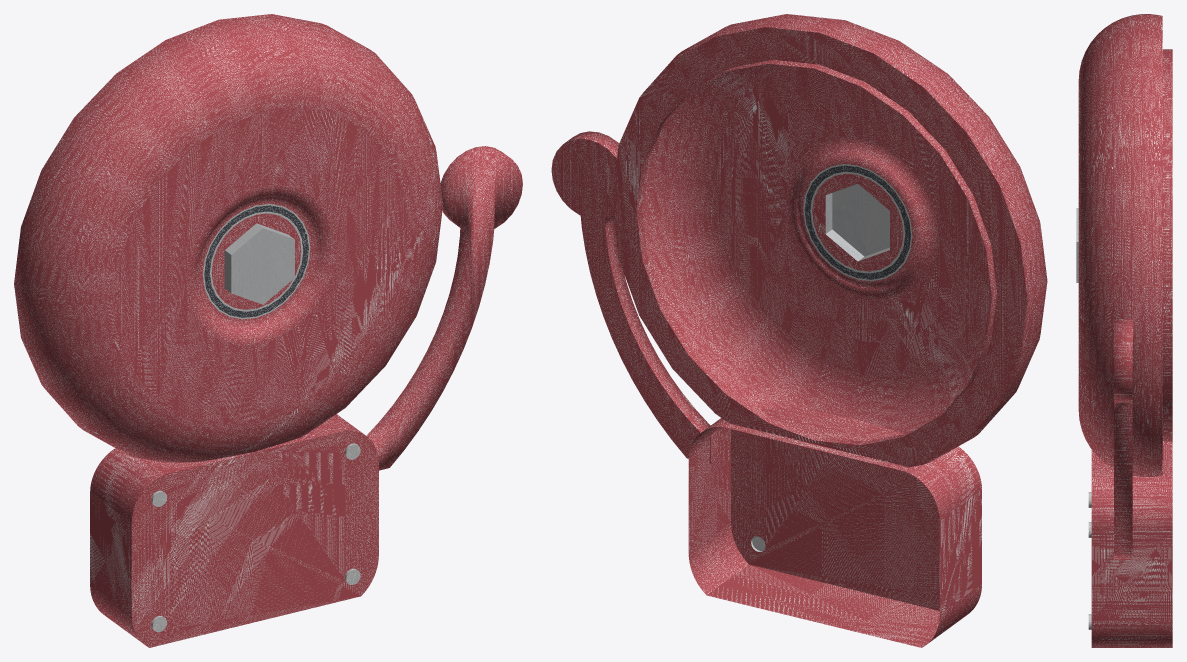
Rendered from school_bell.dae.
3 views of the same model, side by side, from view 1: azimuth 30°, elevation 25°; view 2: azimuth 150°, elevation 25°; view 3: azimuth 270°, elevation 25° (orthographic). The views are drawn at different scales.
Parts seen in each view (by area): view 1: Groupe_233 (×5), group_0; view 2: Groupe_233 (×7), group_0; view 3: Groupe_233 (×2), group_0.
Part boxes in pixels (x1,y1,x2,y2): Groupe_233 (×5): [14, 14, 522, 647]; group_0: [224, 223, 294, 304]; Groupe_233 (×7): [551, 14, 1047, 647]; group_0: [825, 183, 889, 261]; Groupe_233 (×2): [1078, 14, 1172, 647]; group_0: [1076, 208, 1078, 282].
Bounding box in the file's own units: 16.14 × 2.85 × 18.34.
